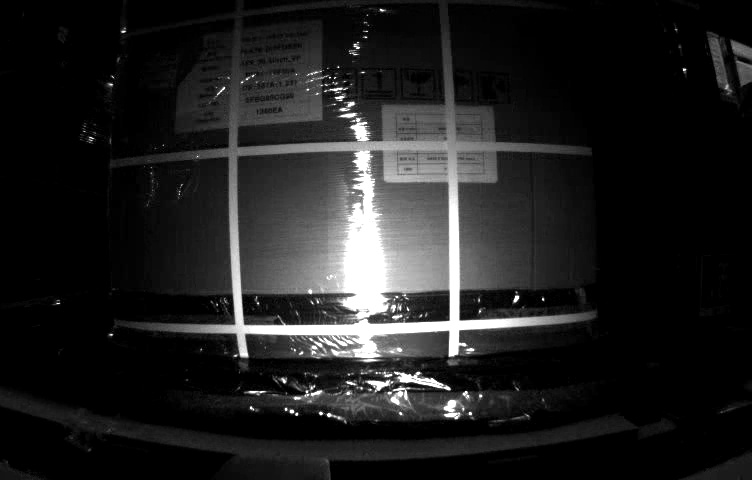True Barcode: (133, 52, 177, 86)
